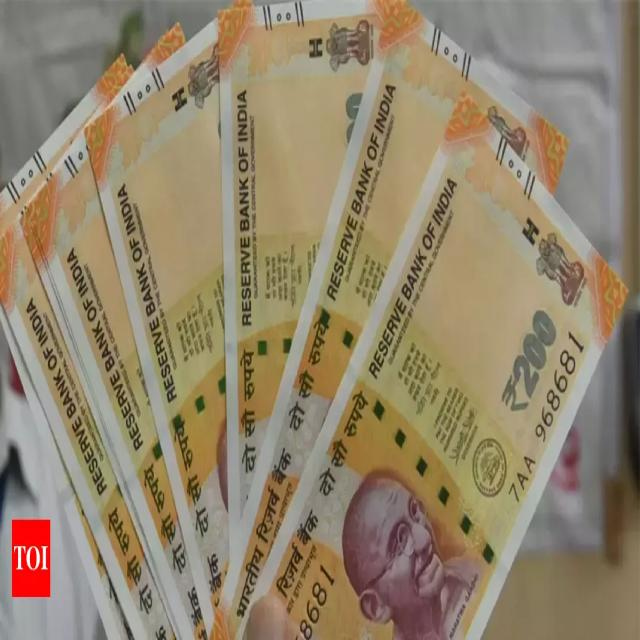200IndianRupees: (231, 87, 633, 640)
